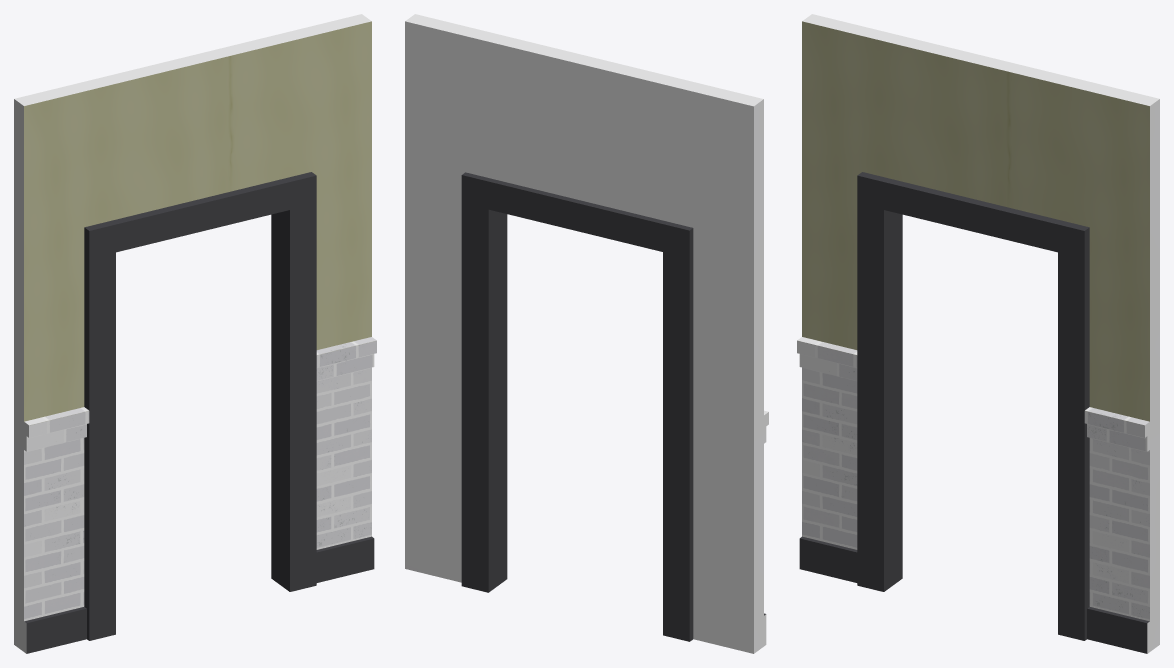
The model's file is SM_Buildings_WallDoor_2x3_01.fbx.
3 renders of one model, left to right at view 1: azimuth 30°, elevation 25°; view 2: azimuth 150°, elevation 25°; view 3: azimuth 330°, elevation 25°, orthographic.
Parts seen in each view (by area): view 1: SM_Buildings_WallDoor_2x3_01; view 2: SM_Buildings_WallDoor_2x3_01; view 3: SM_Buildings_WallDoor_2x3_01.
Part boxes in pixels (x1=…): SM_Buildings_WallDoor_2x3_01: x1=14, y1=14, x2=376, y2=653; SM_Buildings_WallDoor_2x3_01: x1=405, y1=14, x2=768, y2=653; SM_Buildings_WallDoor_2x3_01: x1=797, y1=14, x2=1159, y2=653.
Size of the model in its own units: 200 by 300 by 18.64.
1 material, 1 textured.
